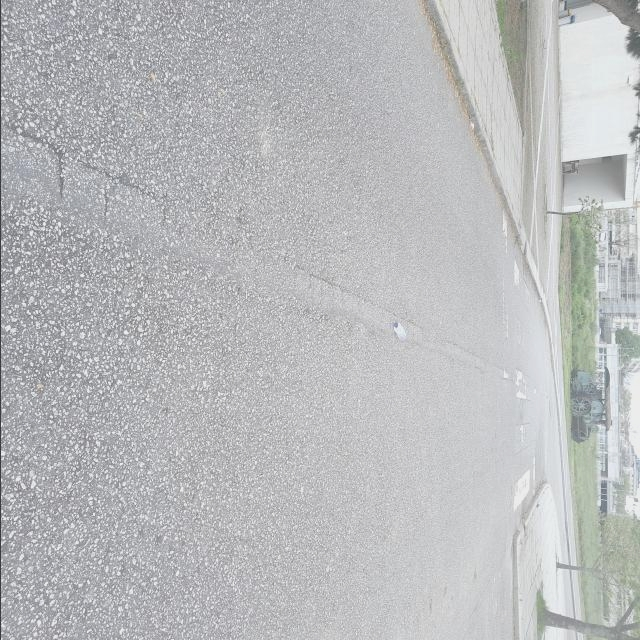Plastic-bottle: (391, 320, 407, 343)
